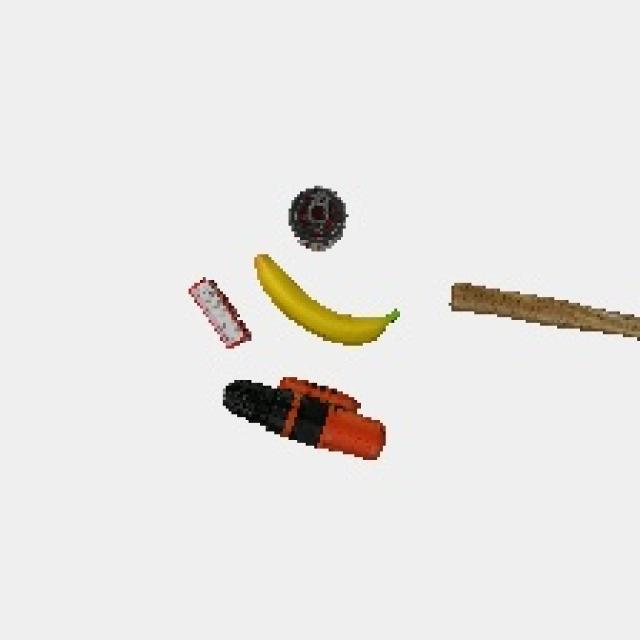GelatinBox: (185, 276, 252, 356)
PowerDrill: (215, 370, 398, 469)
TomatoSoupCan: (282, 180, 358, 257)
